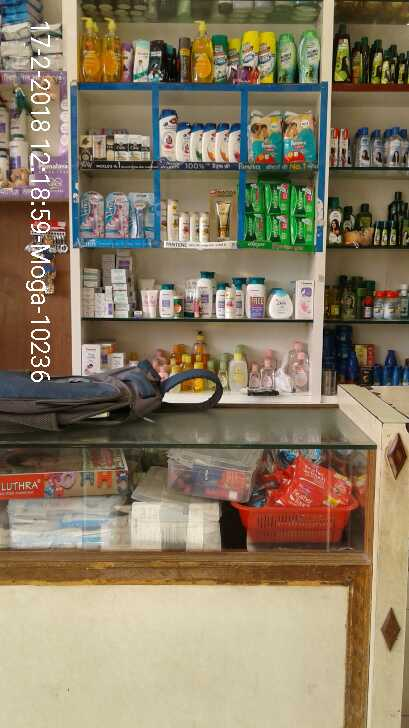venus: (128, 192, 154, 237), (104, 192, 128, 237), (80, 192, 104, 237)
